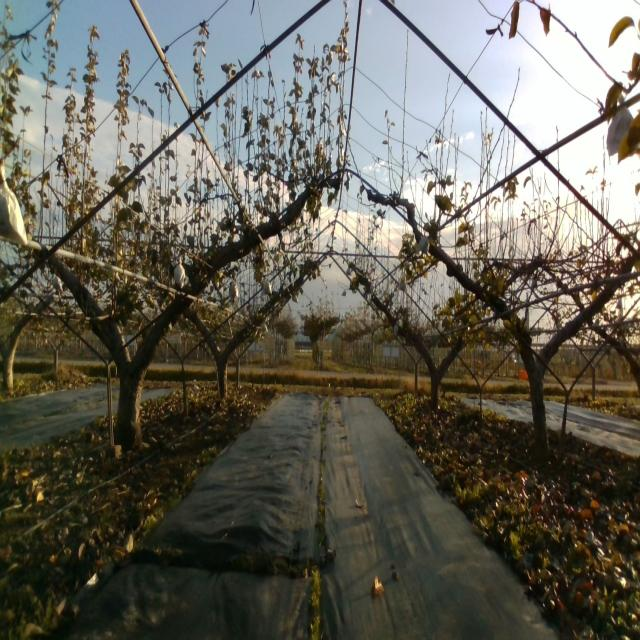pearbags: (0, 160, 29, 246), (606, 90, 636, 164), (172, 263, 186, 289), (414, 234, 430, 254), (229, 283, 239, 303)
